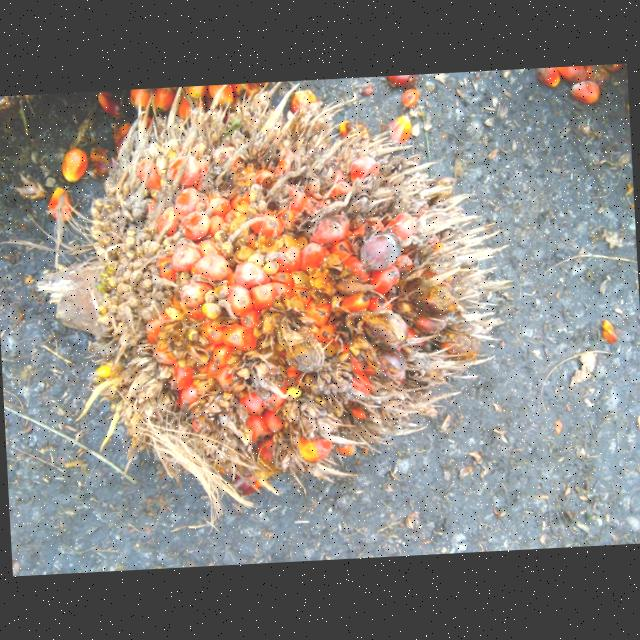Overripe: (40, 101, 510, 490)
